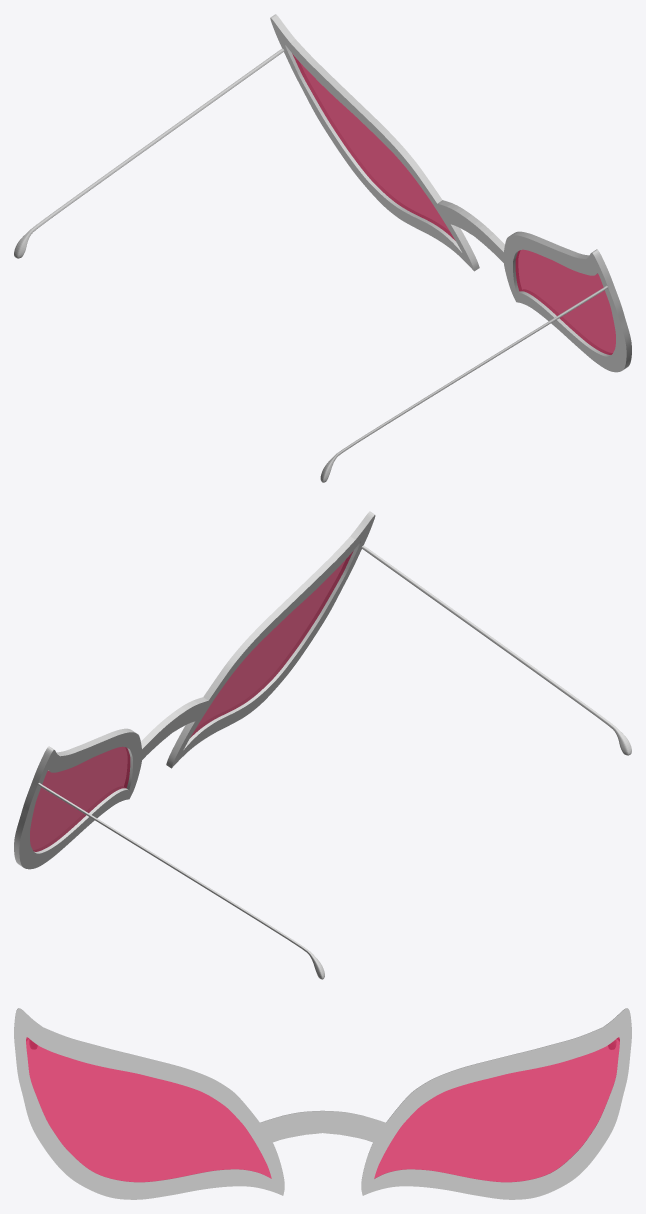
Rendered from doflamingo_glasses.glb.
The picture shows the model from 3 angles, top to bottom: view 1: azimuth 30°, elevation 25°; view 2: azimuth 150°, elevation 25°; view 3: azimuth 270°, elevation 25°; orthographic projection. The views are drawn at different scales.
Parts seen in each view (by area): view 1: Vert_2; view 2: Vert_2; view 3: Vert_2.
Boxes of the visible parts, <box> form: Vert_2: <box>14,14,631,482</box>; Vert_2: <box>14,511,631,979</box>; Vert_2: <box>14,1008,631,1199</box>.
Size of the model in its own units: 3.32 by 1.64 by 5.62.
